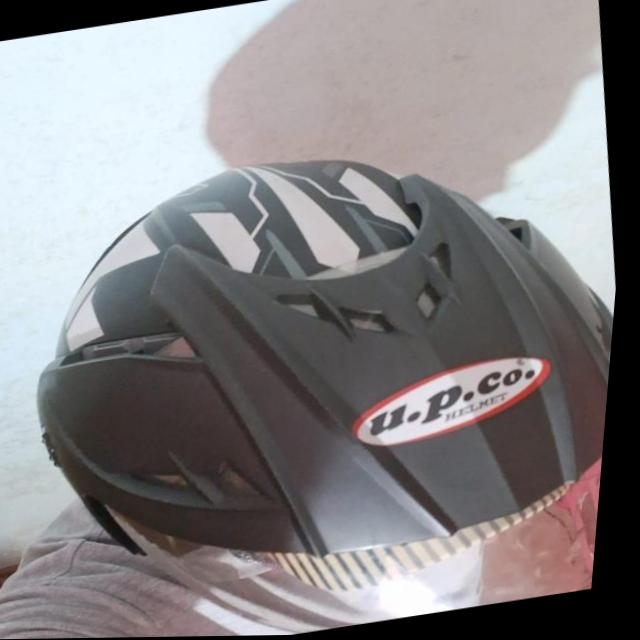helmet: (0, 114, 632, 640)
